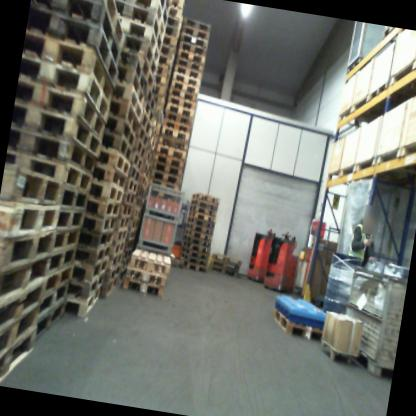pallet: (97, 190, 220, 302), (20, 5, 126, 83), (19, 31, 120, 100), (24, 0, 130, 64), (15, 57, 116, 119), (12, 77, 109, 139), (9, 102, 104, 157), (27, 0, 129, 41), (8, 127, 97, 172), (3, 149, 94, 191), (0, 301, 39, 382), (0, 223, 53, 282), (0, 250, 45, 318), (0, 198, 60, 248), (1, 163, 63, 211), (0, 279, 38, 356), (264, 305, 325, 347), (120, 2, 167, 52), (0, 323, 33, 386), (26, 299, 67, 349), (118, 31, 161, 74), (119, 20, 164, 60), (126, 0, 169, 37), (125, 242, 173, 275), (112, 62, 149, 102), (37, 263, 73, 303), (103, 98, 141, 134), (43, 245, 78, 284), (35, 282, 68, 322), (108, 82, 145, 117), (114, 49, 149, 86), (62, 286, 100, 320), (122, 259, 167, 287), (51, 203, 88, 237), (71, 253, 107, 287), (121, 274, 166, 301), (94, 143, 132, 174), (73, 240, 112, 270), (95, 131, 133, 161), (66, 269, 105, 298), (55, 186, 94, 213), (100, 116, 136, 145), (76, 227, 114, 254), (52, 224, 80, 258), (87, 180, 124, 204), (90, 165, 126, 189), (81, 213, 117, 236), (148, 167, 184, 190), (150, 162, 185, 182), (130, 0, 171, 17), (86, 197, 119, 218), (206, 248, 242, 267), (154, 144, 187, 164), (182, 231, 213, 249), (159, 126, 190, 144), (171, 72, 201, 90), (153, 155, 184, 172), (180, 243, 210, 260), (180, 256, 210, 273), (141, 86, 157, 117), (184, 220, 215, 236), (165, 102, 194, 119), (166, 95, 195, 112), (182, 17, 211, 34), (176, 48, 206, 64), (158, 136, 189, 151), (168, 88, 197, 104), (169, 80, 198, 96), (181, 24, 210, 40), (173, 66, 200, 83), (180, 251, 209, 266), (178, 41, 206, 56), (207, 264, 239, 277), (142, 63, 158, 89), (162, 119, 191, 133), (179, 33, 208, 47), (188, 199, 219, 212), (185, 216, 216, 229), (180, 239, 211, 252), (103, 263, 121, 285), (165, 113, 193, 127), (175, 59, 203, 73), (187, 203, 217, 216), (186, 210, 217, 222), (344, 57, 360, 79), (208, 259, 239, 270), (132, 140, 148, 161), (183, 229, 213, 240), (140, 101, 154, 124), (107, 251, 124, 269), (110, 228, 127, 245), (126, 163, 142, 181), (114, 215, 130, 233), (139, 113, 152, 134), (109, 239, 125, 256), (136, 126, 149, 146), (121, 192, 136, 207), (159, 33, 175, 47), (129, 153, 142, 170), (139, 162, 151, 180), (165, 15, 180, 29), (158, 42, 173, 56), (163, 25, 178, 38), (141, 154, 152, 171), (137, 174, 150, 188), (119, 205, 132, 218), (124, 180, 136, 194), (157, 54, 171, 66), (135, 186, 147, 200), (155, 64, 168, 76), (132, 197, 145, 209), (151, 82, 163, 94), (131, 208, 143, 220), (166, 0, 184, 8), (153, 74, 167, 84), (130, 219, 140, 231), (153, 93, 162, 106)
pallet_truck: (260, 222, 307, 297), (245, 216, 277, 284)
stillage: (332, 263, 408, 380), (137, 179, 186, 256)
